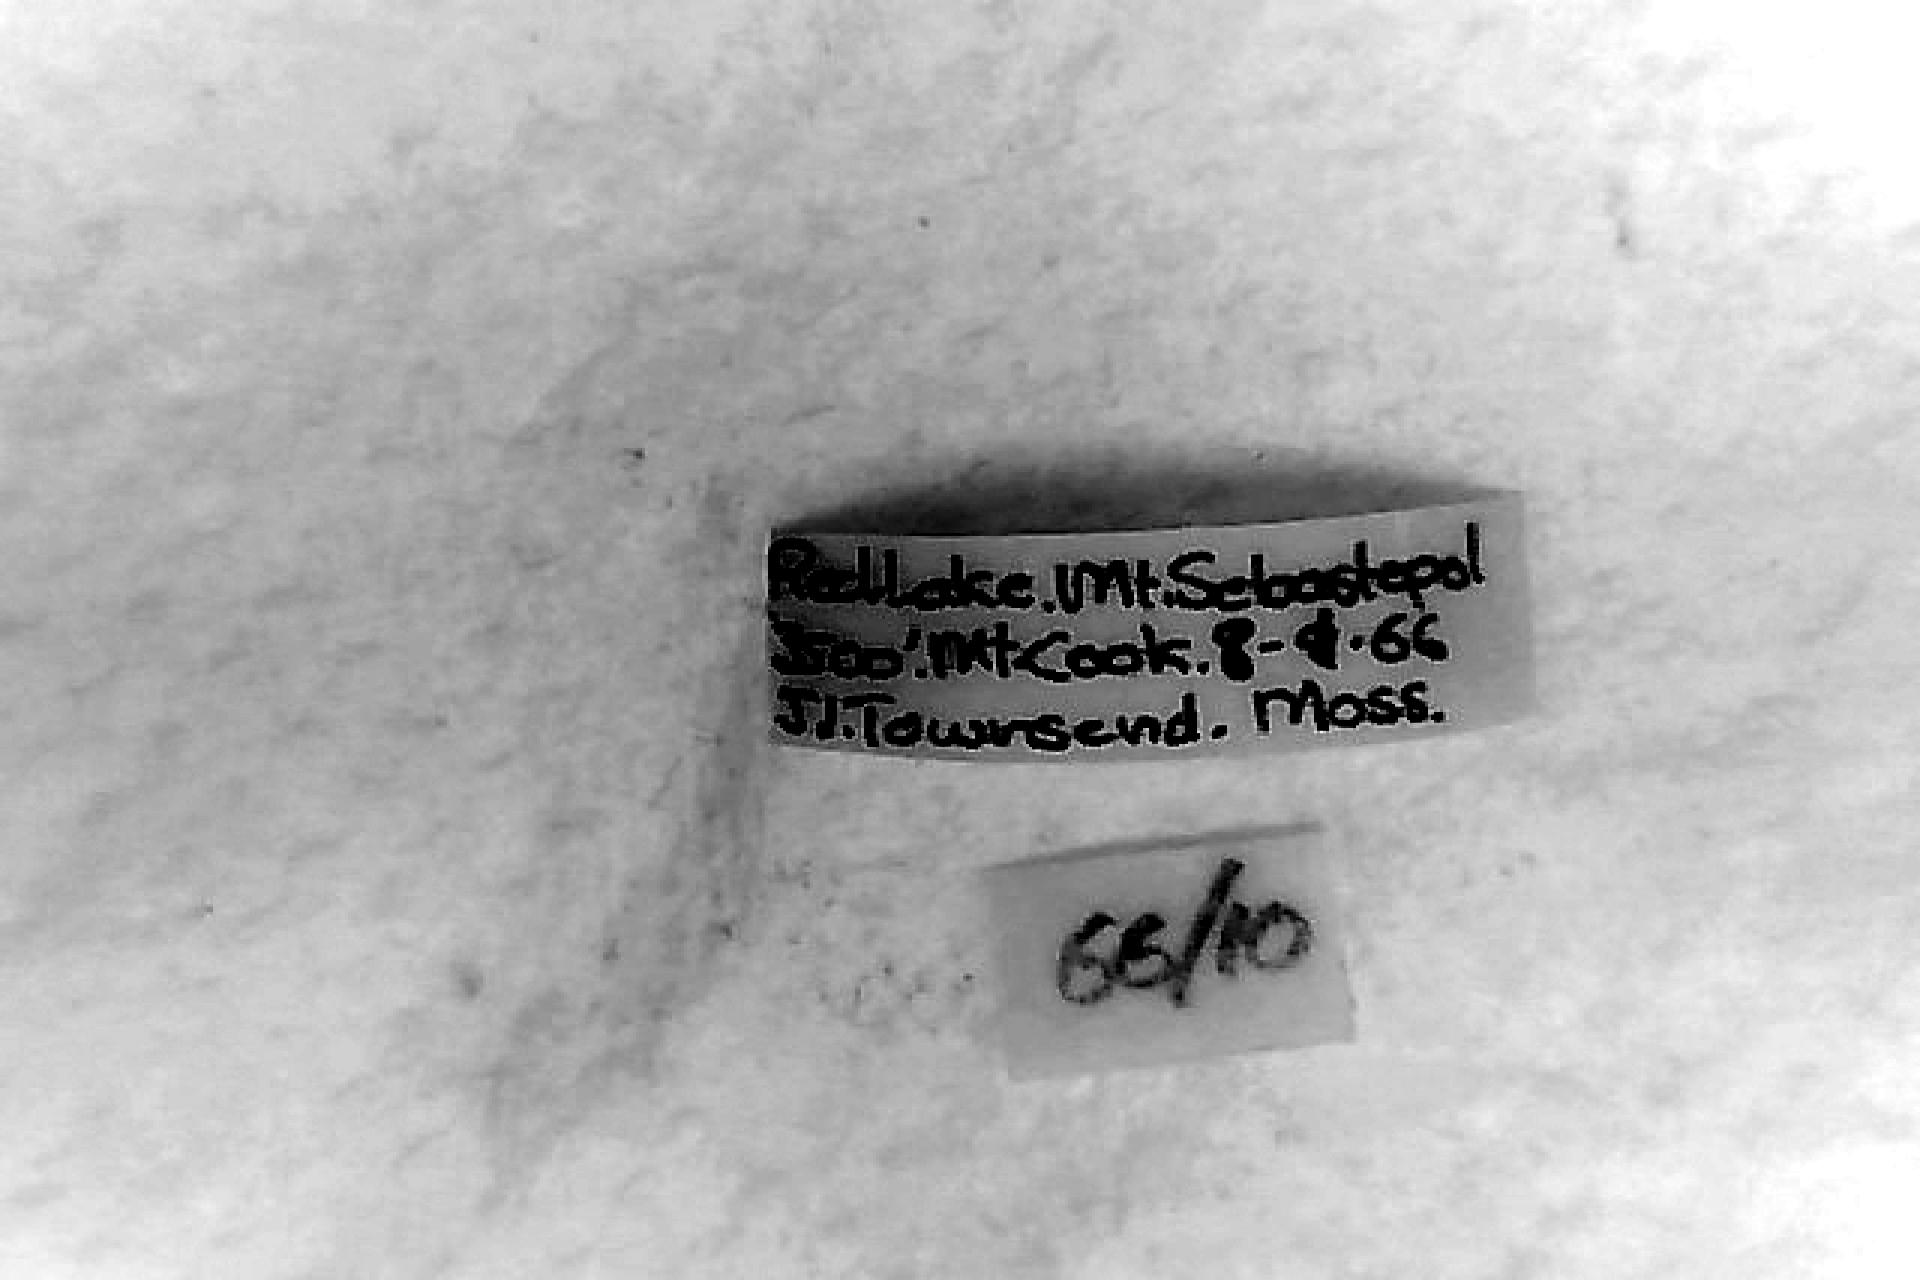hand_label: (769, 497, 1530, 757), (990, 833, 1354, 1077)
